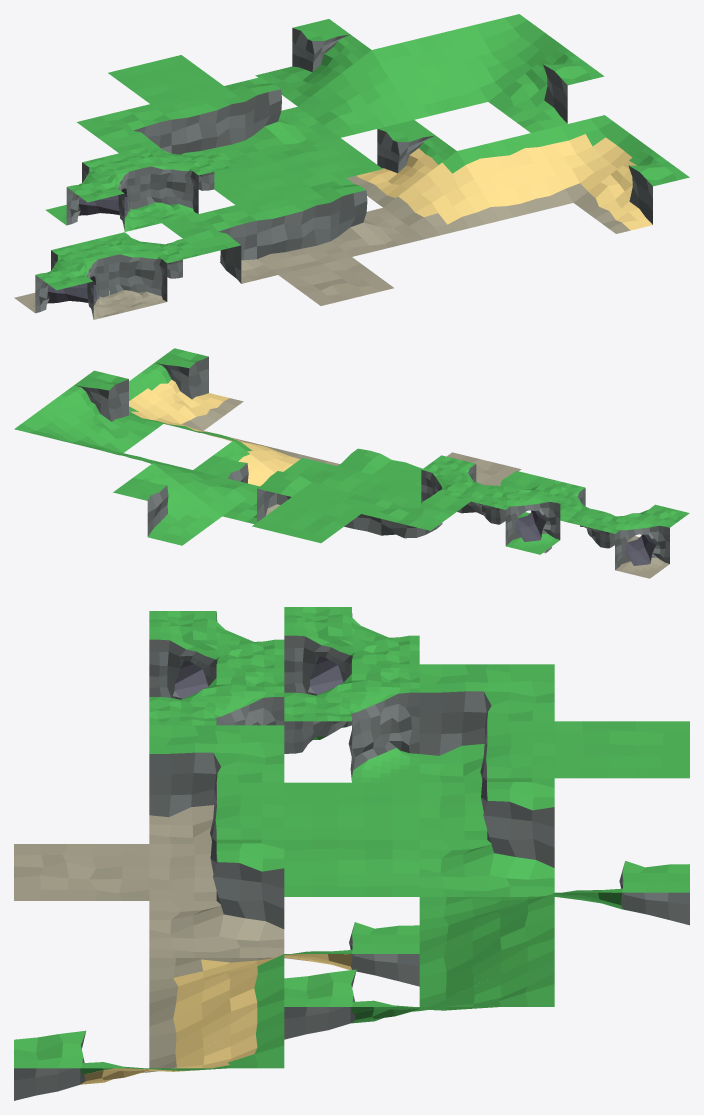
File: CubicTerrain.fbx
The picture shows the model from 3 angles, top to bottom: view 1: azimuth 30°, elevation 25°; view 2: azimuth 150°, elevation 25°; view 3: azimuth 270°, elevation 25°; orthographic projection. The views are drawn at different scales.
Visible parts, largest first — view 1: BasicSlope, SeaSlope, SeaCliff, SeaSlopeCornerInner, BasicSlopeCornerOuter, SeaSlopeCornerOuter, BasicSlopeCornerInner, BasicCliff, BasicCliffIntersection, SeaCliffIntersection, BasicCliffToSlopeTransition, SeaCliffToSlopeTransition (+12 smaller); view 2: BasicCliffIntersectionWithTunnel, SeaCliffIntersectionWithTunnel, BasicSlopeToCliffTransition, BasicCliffToSlopeTransition, SeaCliffToSlopeTransition, BasicRaisedFloor, BasicCliffCornerInner, BasicCliffIntersection, BasicSlopeCornerOuter, BasicSlopeCornerInner, BasicCliffCornerOuter, SeaSlopeToCliffTransition (+10 smaller); view 3: BasicCliffCornerOuter, SeaCliffCornerOuter, BasicCliffCornerInner, SeaCliffCornerInner, BasicCliffIntersection, BasicCliff, SeaCliff, BasicCliffIntersectionWithTunnel, SeaCliffIntersectionWithTunnel, BasicFloor, BasicFloor2, BasicRaisedFloor (+12 smaller).
Part boxes in pixels (x1,y1,x2,y2): BasicSlope: [372, 32, 487, 119]; SeaSlope: [457, 133, 573, 220]; SeaCliff: [236, 187, 351, 274]; SeaSlopeCornerInner: [531, 115, 646, 202]; BasicSlopeCornerOuter: [298, 50, 414, 137]; SeaSlopeCornerOuter: [383, 151, 499, 238]; BasicSlopeCornerInner: [446, 14, 561, 101]; BasicCliff: [150, 86, 266, 164]; BasicCliffIntersection: [119, 144, 235, 222]; SeaCliffIntersection: [88, 232, 203, 310]; BasicCliffToSlopeTransition: [488, 45, 604, 132]; SeaCliffToSlopeTransition: [574, 146, 689, 233]; BasicCliffIntersectionWithTunnel: [471, 481, 579, 554]; SeaCliffIntersectionWithTunnel: [580, 504, 689, 578]; BasicSlopeToCliffTransition: [113, 463, 221, 545]; BasicCliffToSlopeTransition: [54, 370, 163, 452]; SeaCliffToSlopeTransition: [134, 348, 243, 430]; BasicRaisedFloor: [252, 497, 360, 543]; BasicCliffCornerInner: [362, 493, 470, 538]; BasicCliffIntersection: [419, 455, 490, 529]; BasicSlopeCornerOuter: [153, 463, 259, 516]; BasicSlopeCornerInner: [14, 400, 122, 452]; BasicCliffCornerOuter: [222, 471, 311, 524]; SeaSlopeToCliffTransition: [193, 441, 280, 515]; BasicCliffCornerOuter: [419, 778, 554, 896]; SeaCliffCornerOuter: [149, 839, 284, 957]; BasicCliffCornerInner: [419, 664, 554, 782]; SeaCliffCornerInner: [149, 725, 284, 843]; BasicCliffIntersection: [284, 664, 419, 782]; BasicCliff: [419, 721, 554, 839]; SeaCliff: [149, 782, 284, 900]; BasicCliffIntersectionWithTunnel: [284, 607, 419, 695]; SeaCliffIntersectionWithTunnel: [149, 611, 284, 699]; BasicFloor: [284, 782, 419, 839]; BasicFloor2: [284, 839, 419, 896]; BasicRaisedFloor: [554, 721, 689, 778].
Size of the model in its own units: 3200 by 437 by 2000.
